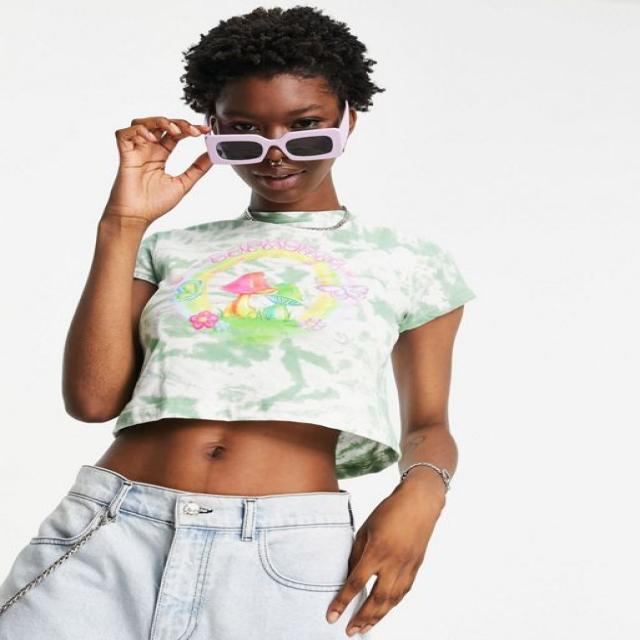tshirt: (109, 206, 474, 477)
